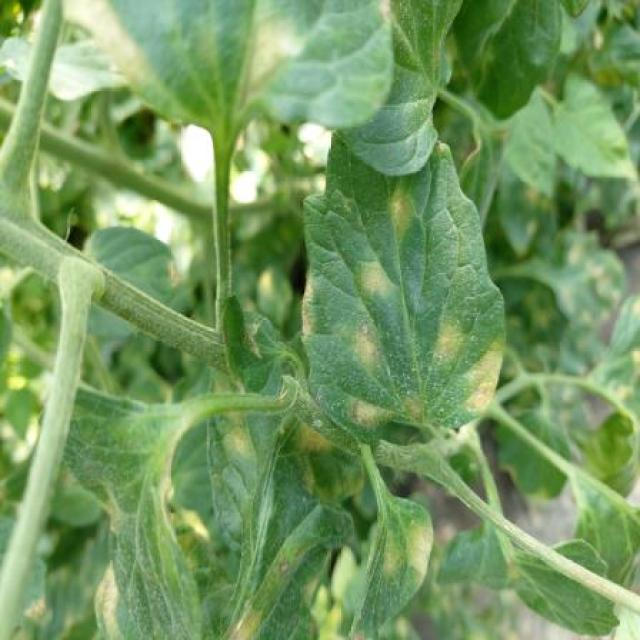Leaf Mold: (301, 131, 506, 439), (349, 493, 434, 640)
